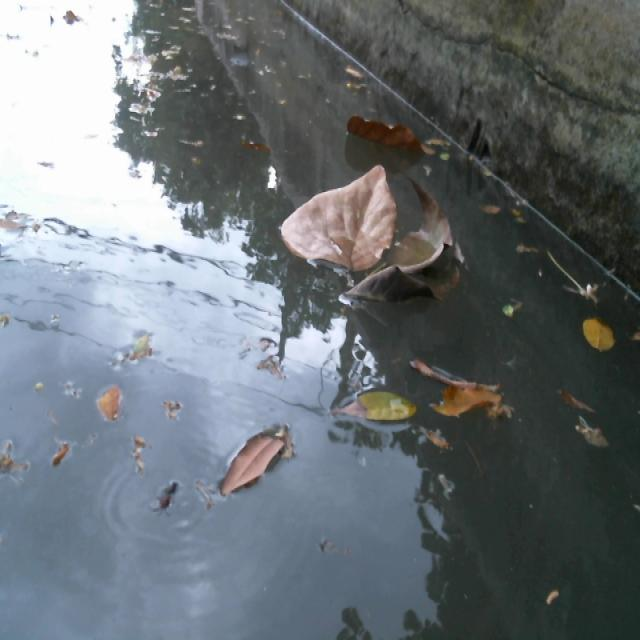Big-leaf: (278, 171, 463, 307), (413, 354, 519, 434), (344, 107, 430, 157)
Small-leaf: (215, 416, 294, 509), (561, 392, 617, 462), (332, 387, 418, 427), (90, 374, 133, 425), (507, 201, 540, 261), (580, 310, 619, 358), (498, 288, 529, 321), (425, 130, 455, 163), (240, 136, 276, 162), (351, 65, 373, 91), (485, 196, 500, 213)
